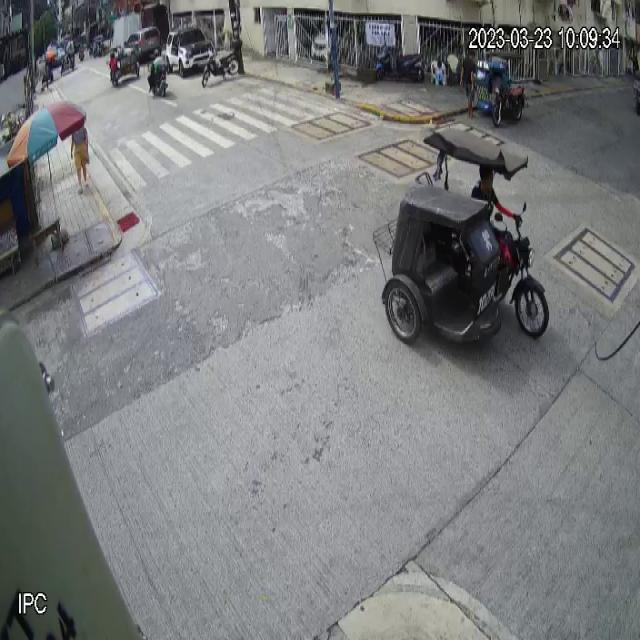Tricycle: (372, 126, 549, 347), (476, 60, 526, 127)
